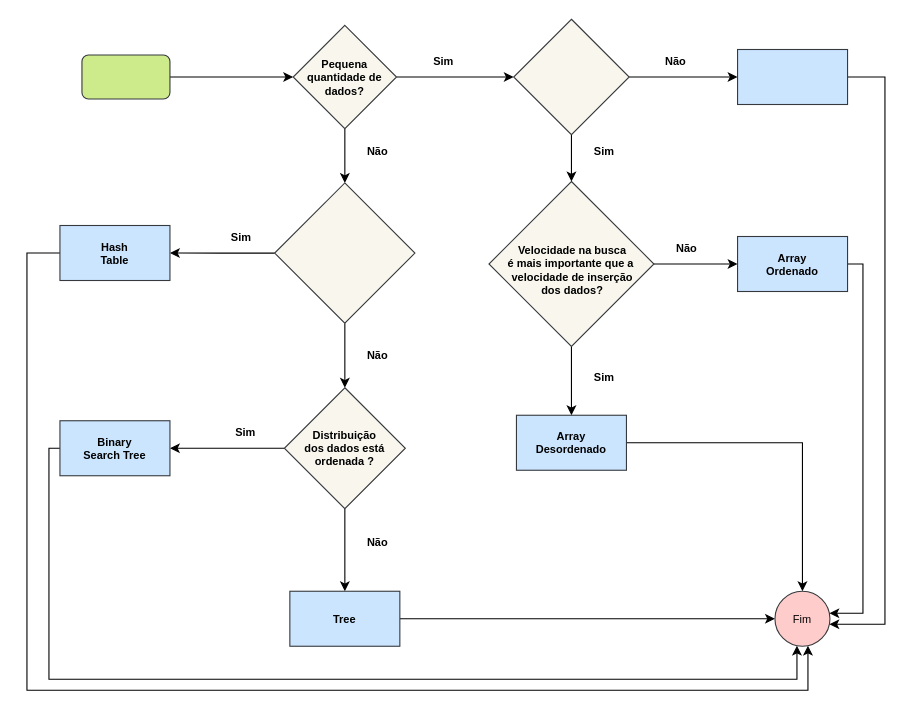
This 913x718 diagram has some shape labels left out. The shapes that lost their labels are listed below. From the top down, each one's centre as x and y in pixels, then its label:
At [125,76]: "Inicio".
At [571,76]: "Quantidade de dados é previsível?".
At [792,76]: "Linked List".
At [344,252]: "Precisa de velocidade na busca e inserção dos dados?".
